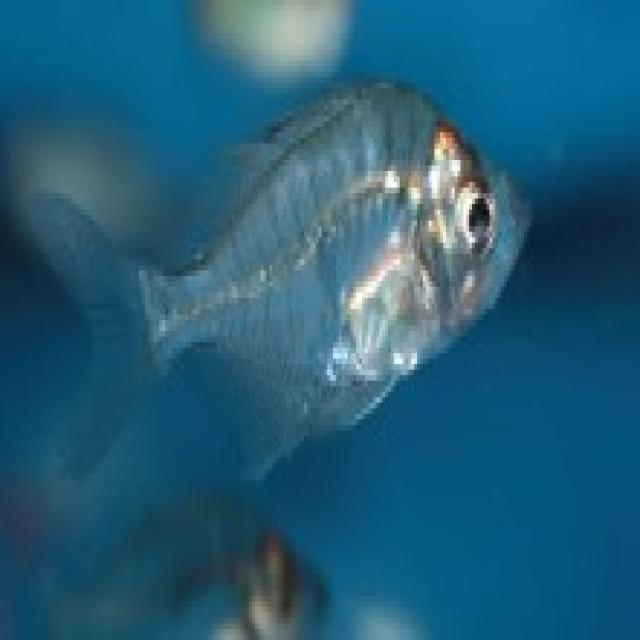Glass-Perchlet: (4, 19, 581, 559)
